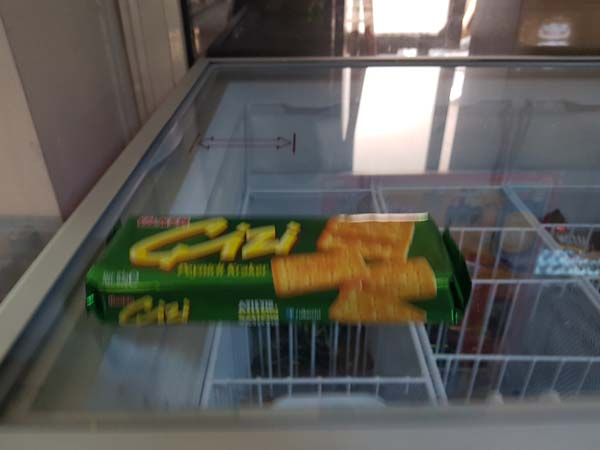cizi: (76, 210, 473, 334)
